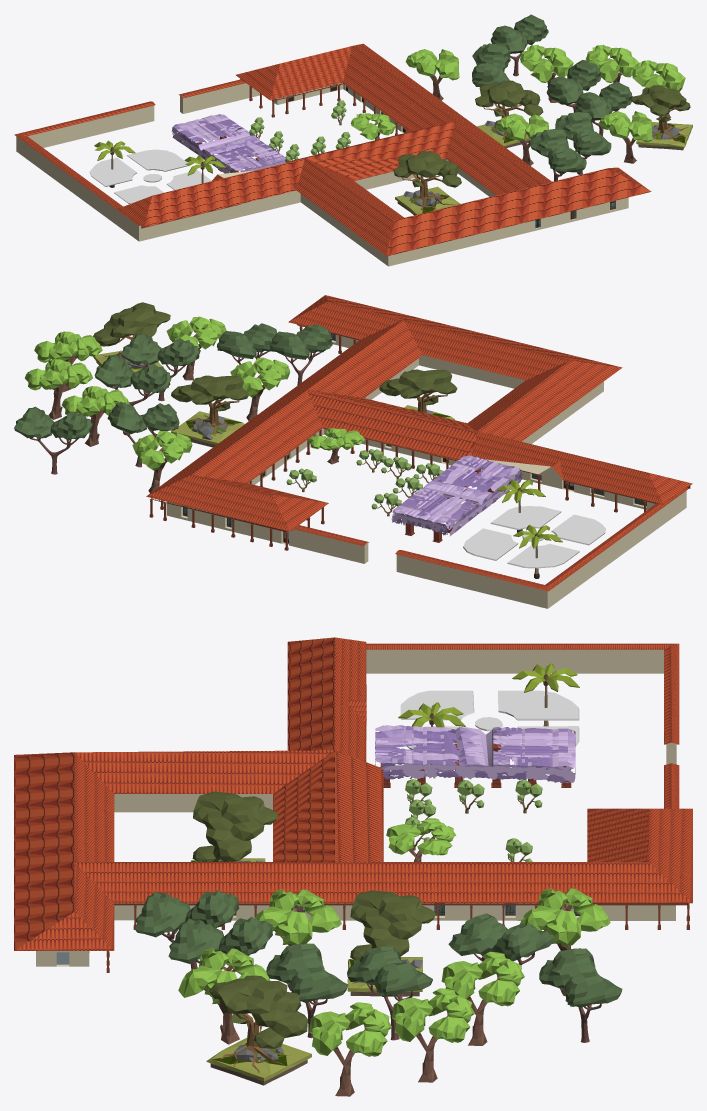
File: haCIENDA.fbx
3 views of the same model, one above another, from view 1: azimuth 30°, elevation 25°; view 2: azimuth 150°, elevation 25°; view 3: azimuth 270°, elevation 25° (orthographic). The views are drawn at different scales.
Visible parts, largest first — view 1: parron, parron.001, Mball.017_Mesh, Mball.017_Mesh.002, Mball.017_Mesh.001, CommonTree_1.005, CommonTree_1.004, CommonTree_1, CommonTree_1.002, model.001, CommonTree_1.003, model.002 (+8 smaller); view 2: parron, parron.001, Mball.017_Mesh.001, Mball.017_Mesh.002, Mball.017_Mesh, CommonTree_1.002, CommonTree_1.004, CommonTree_1.003, model.005, CommonTree_1.001, model.004, CommonTree_1.005 (+8 smaller); view 3: parron, Mball.017_Mesh.002, Mball.017_Mesh.001, Mball.017_Mesh, parron.001, model.005, model.006, model.001, CommonTree_1.002, CommonTree_1.005, CommonTree_1.001, model.004 (+8 smaller).
Boxes of the visible parts, x1,y1,x2,y2 form: parron: (14, 43, 651, 266); parron.001: (89, 149, 211, 203); Mball.017_Mesh: (393, 151, 461, 215); Mball.017_Mesh.002: (630, 85, 692, 150); Mball.017_Mesh.001: (475, 80, 543, 148); CommonTree_1.005: (530, 128, 586, 181); CommonTree_1.004: (546, 60, 602, 112); CommonTree_1: (555, 111, 611, 174); CommonTree_1.002: (490, 14, 548, 76); model.001: (520, 45, 573, 102); CommonTree_1.003: (575, 81, 632, 135); model.002: (599, 111, 652, 163); parron: (146, 295, 692, 608); parron.001: (463, 506, 605, 568); Mball.017_Mesh.001: (171, 375, 248, 447); Mball.017_Mesh.002: (93, 302, 170, 372); Mball.017_Mesh: (379, 369, 457, 419); CommonTree_1.002: (14, 406, 93, 474); CommonTree_1.004: (94, 354, 171, 405); CommonTree_1.003: (121, 333, 200, 401); model.005: (25, 359, 92, 419); CommonTree_1.001: (107, 402, 179, 467); model.004: (132, 431, 192, 493); CommonTree_1.005: (269, 324, 332, 385); parron: (14, 637, 692, 972); Mball.017_Mesh.002: (206, 975, 311, 1085); Mball.017_Mesh.001: (347, 890, 436, 996); Mball.017_Mesh: (190, 791, 278, 861); parron.001: (400, 690, 579, 749); model.005: (392, 988, 474, 1082); model.006: (309, 1002, 392, 1096); model.001: (441, 951, 524, 1045); CommonTree_1.002: (539, 948, 622, 1042); CommonTree_1.005: (135, 890, 239, 969); CommonTree_1.001: (448, 913, 554, 1003); model.004: (520, 888, 610, 950).
Bounding box in the file's own units: 23586 × 2275 × 16327.
26 materials, 6 textured.
